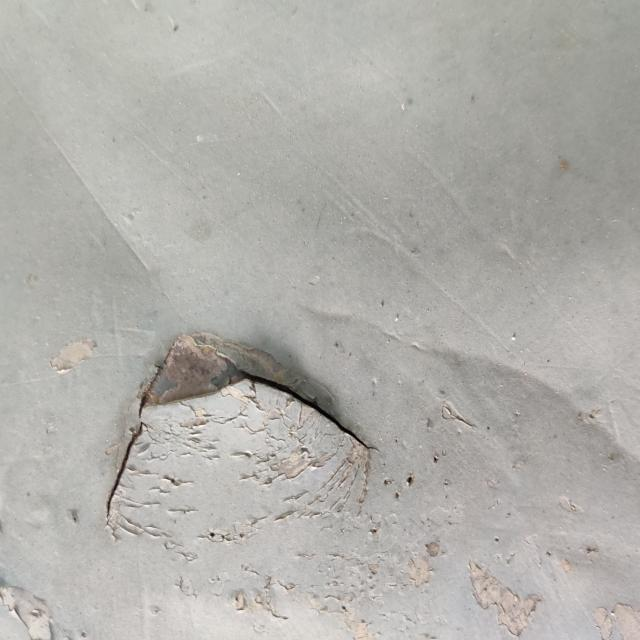crack: (79, 94, 326, 388)
